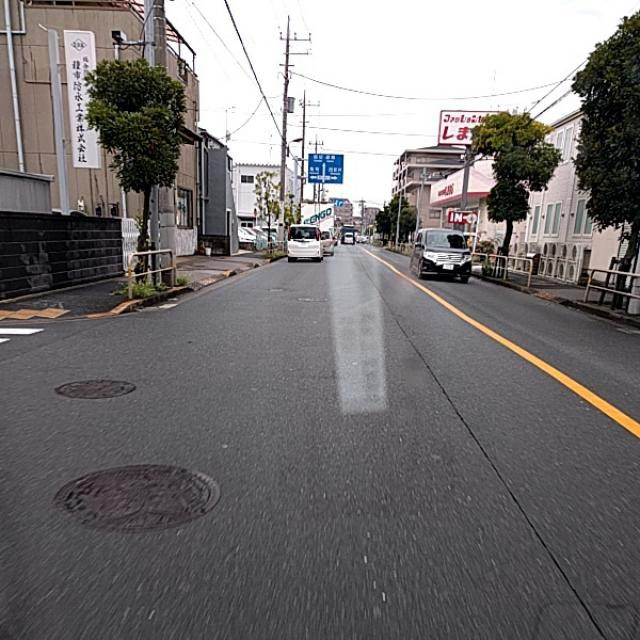pothole: (454, 399, 501, 464)
